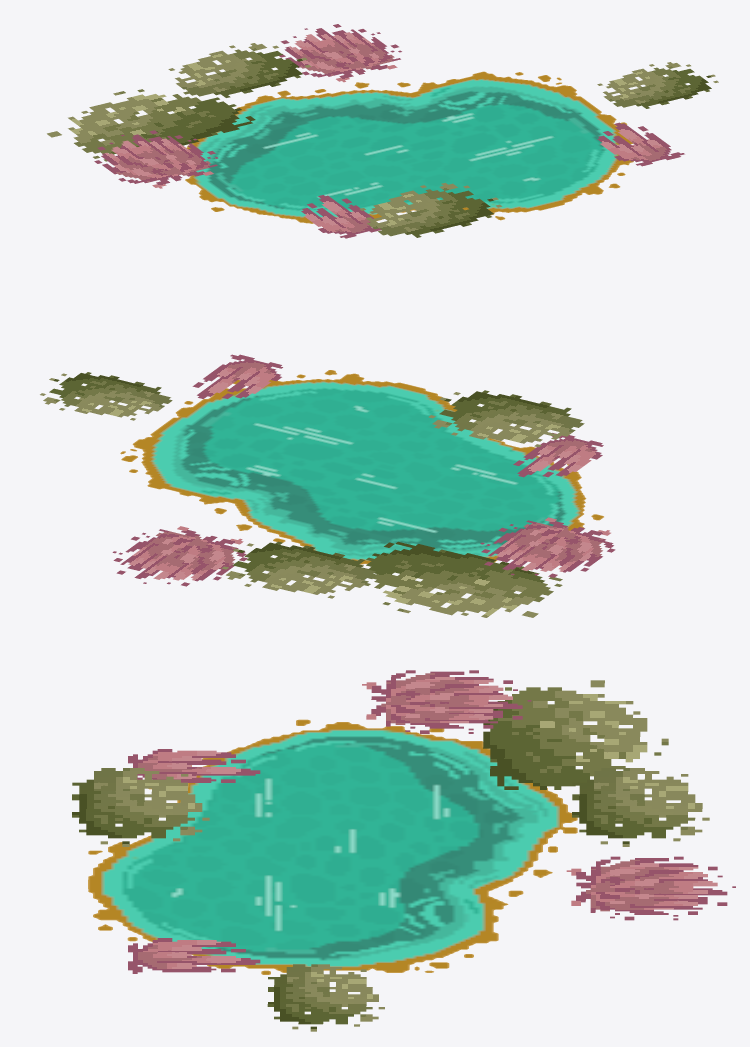
The model's file is SM_Oasis.FBX.
3 views of the same model, one above another, from view 1: azimuth 30°, elevation 25°; view 2: azimuth 150°, elevation 25°; view 3: azimuth 270°, elevation 25° (orthographic). The views are drawn at different scales.
Visible parts, largest first — view 1: Plane079; view 2: Plane079; view 3: Plane079.
Part boxes in pixels (x1=…): Plane079: x1=47, y1=24, x2=718, y2=238; Plane079: x1=40, y1=354, x2=615, y2=617; Plane079: x1=72, y1=670, x2=735, y2=1031.
Bounding box in the file's own units: 87.68 × 2.19 × 74.47.
